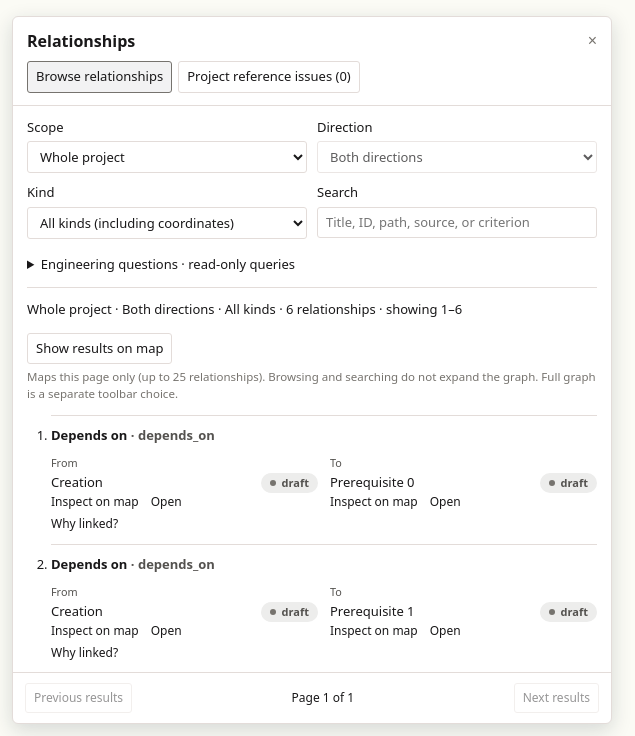
Test: bounded project relationships › reruns identical query arguments after a read failure and returns fresh results
Click the heading "Engineering questions · read-only queries".
click(168, 264)  # box [41,254,295,272]
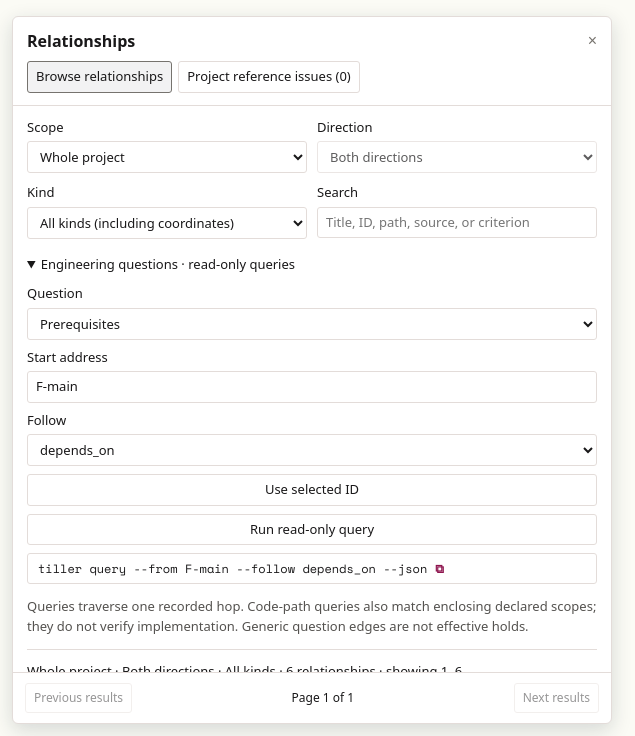
Click the button "Run read-only query".
click(312, 529)  # box [27,514,597,545]
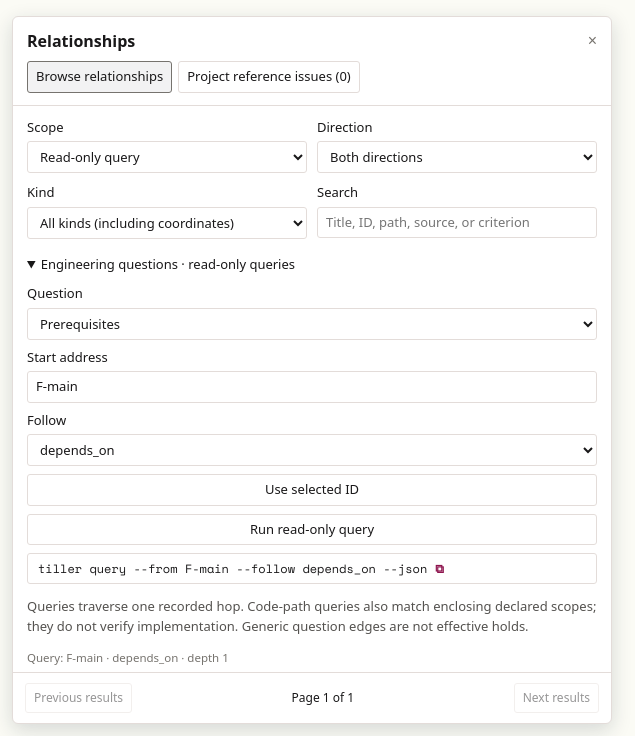
Click the button "Run read-only query".
click(312, 529)  # box [27,514,597,545]
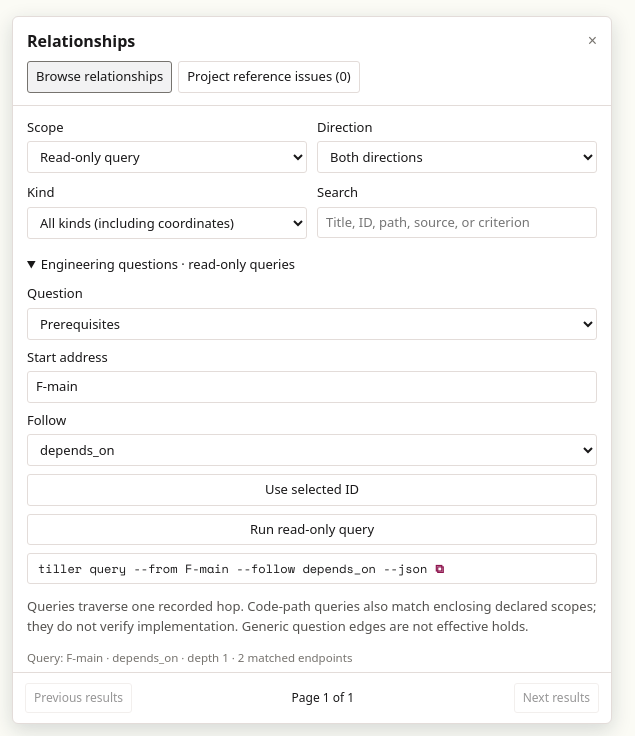
Expected: the message "Whole project · Both directions · All kinds · 6 relationships · showing 1–6" is not shown
Now the text "Query: F-main · depends_on · depth 1 · 2 matched endpoints" is shown, box [27,650,352,665]
